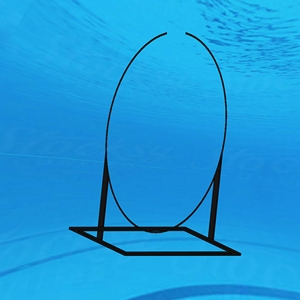circle: (67, 29, 245, 262)
